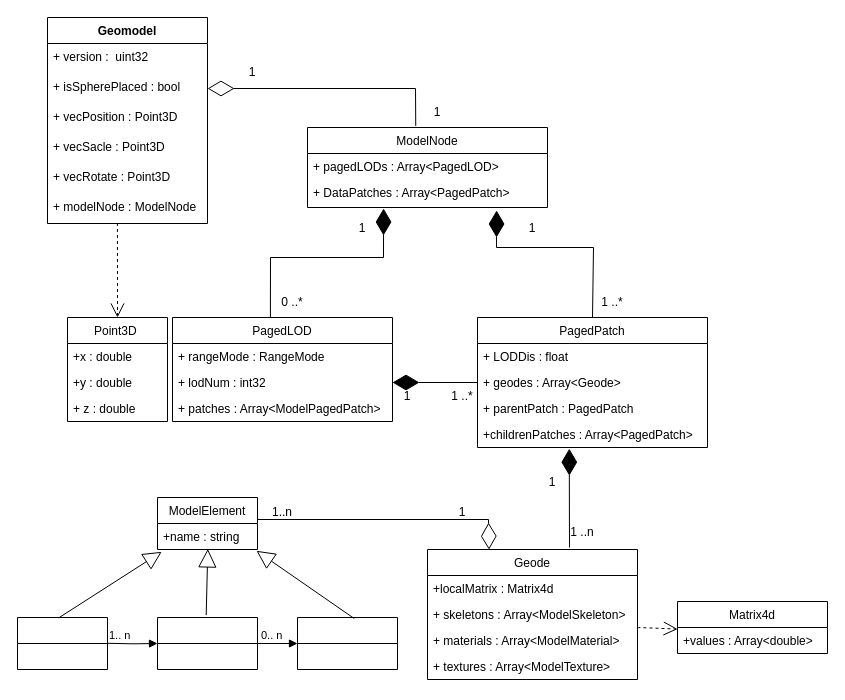
Some shapes in this 845 by 700 pixel diagram are drawn without their labels. Here are the shapes that lost their labels. From the top down, the centre of each, then its label:
At point 62,643: "ModelSkeleton".
At point 207,643: "ModelMaterial".
At point 347,643: "ModelTexture".
